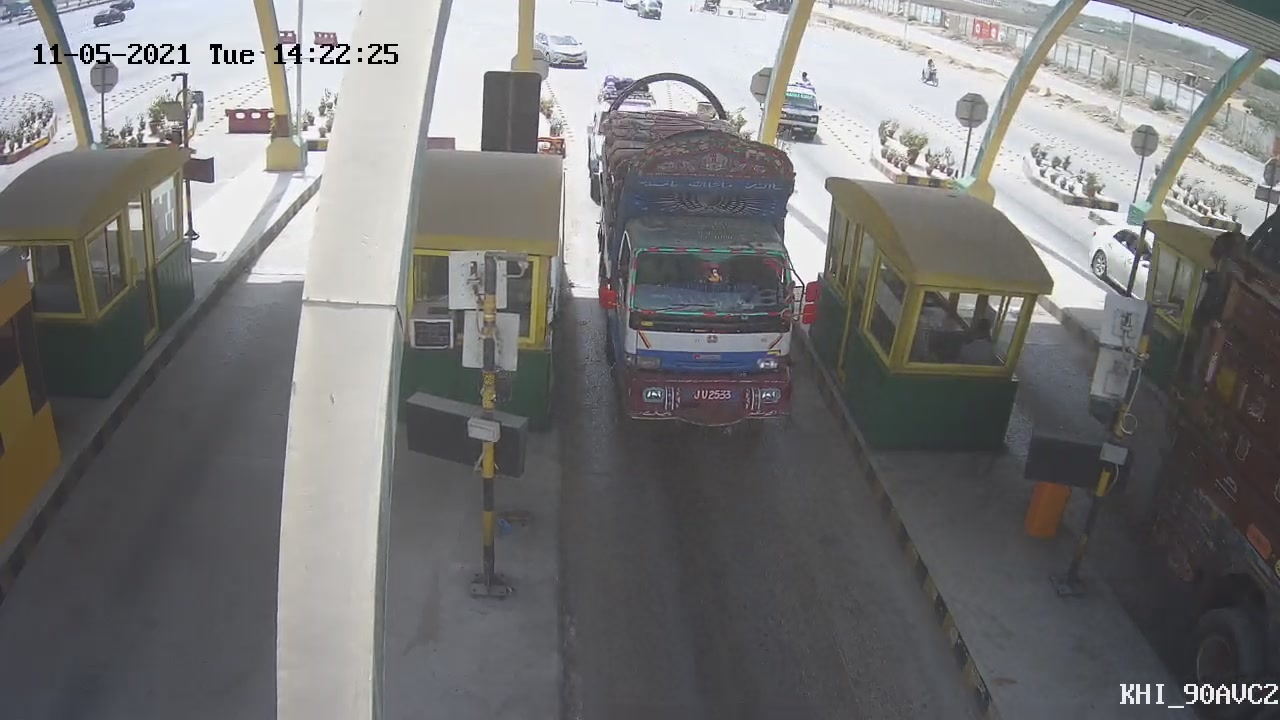F5: (586, 72, 811, 447)
